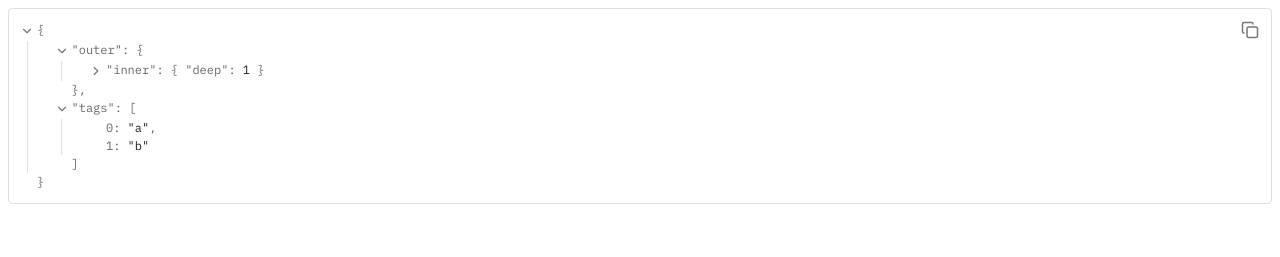
Test: JsonBlock › collapses nested members beyond the default depth
Expected: the text "\"deep\"" is shown, [185,62,228,77]
Click the button named "Expand inner" at [96, 71], box [86,61,106,81]
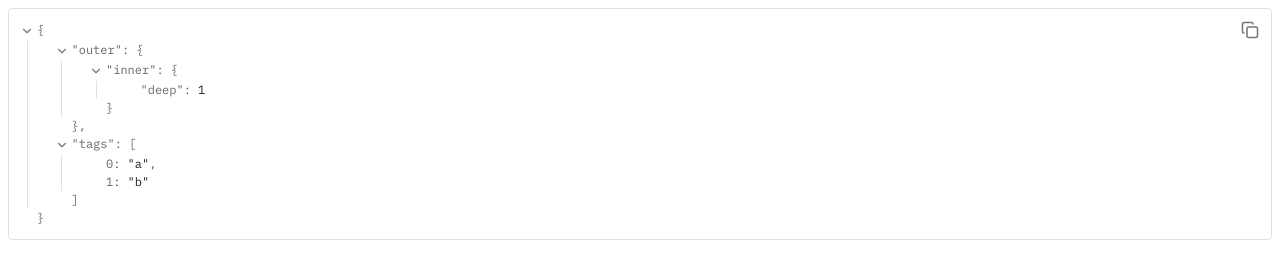
Expected: the button named "Copy JSON" is shown, [1233,13,1267,47]
Expected: the button named "Collapse inner" is shown, [86,61,106,81]
